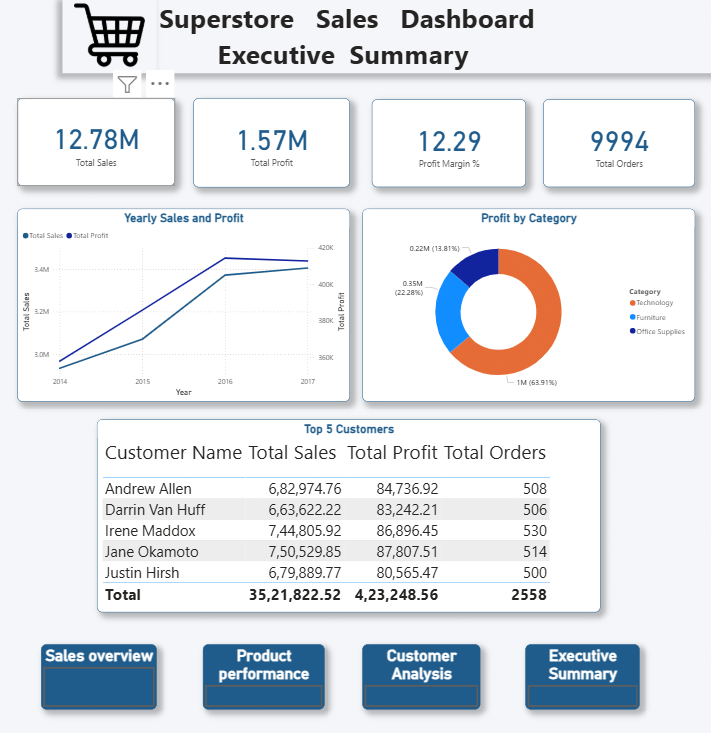

This screenshot's page, from the dashboard's own definition file:
{"tool":"powerbi","page":{"name":"Executive Summary","canvas":[1320,1400],"ordinal":3},"visuals":[{"type":"textbox","box":[290.2,21.7,1011.5,138.6],"z":0},{"type":"image","box":[119.1,21.7,171.1,138.6],"z":1000},{"type":"card","fields":{"Values":["Measures (2).Total Sales"]},"box":[37.2,205.7,286.6,159.7],"z":2000},{"type":"card","fields":{"Values":["Measures (2).Total Profit"]},"box":[356.6,205.7,284.4,161.9],"z":3000},{"type":"card","fields":{"Values":["Measures (2).Profit Margin %"]},"box":[680.4,207.8,280,159.7],"z":4000},{"type":"card","fields":{"Values":["Measures (2).Total Orders"]},"box":[991.1,207.8,275.7,159.7],"z":5000},{"type":"lineChart","title":"Yearly Sales and Profit","fields":{"Category":["Date Table.Year"],"Y":["Measures (2).Total Sales"],"Y2":["Measures (2).Total Profit"]},"box":[37.2,406.9,603.8,350],"z":6000},{"type":"donutChart","title":"Profit by Category","fields":{"Category":["Superstore_Sales.Category"],"Y":["Measures (2).Total Profit"]},"box":[662.9,406.9,603.8,350],"z":7000},{"type":"tableEx","title":"Top 5 Customers","fields":{"Values":["Superstore_Sales.Customer Name","Measures (2).Total Sales","Measures (2).Total Profit","Measures (2).Total Orders"]},"box":[181.6,787.6,914.5,350],"z":8000},{"type":"actionButton","title":"Sales overview","box":[80.9,1196.7,210,118.1],"z":9000},{"type":"actionButton","title":"Product performance","box":[374.1,1196.7,221,118.1],"z":10000},{"type":"actionButton","title":"Customer Analysis","box":[662.9,1196.7,214.4,118.1],"z":11000},{"type":"actionButton","title":"Executive Summary","box":[960.4,1196.7,207.8,118.1],"z":12000}]}

Visuals, with their boxes in screenshot pixels (x1, y1, x2, y2), scaled from the page's 1320x1400 canvas onto the 711x733 screenshot:
textbox: (left=156, top=11, right=701, bottom=84)
image: (left=64, top=11, right=156, bottom=84)
card - Measures (2).Total Sales: (left=20, top=108, right=174, bottom=191)
card - Measures (2).Total Profit: (left=192, top=108, right=345, bottom=192)
card - Measures (2).Profit Margin %: (left=366, top=109, right=517, bottom=192)
card - Measures (2).Total Orders: (left=534, top=109, right=682, bottom=192)
"Yearly Sales and Profit" lineChart: (left=20, top=213, right=345, bottom=396)
"Profit by Category" donutChart: (left=357, top=213, right=682, bottom=396)
"Top 5 Customers" tableEx: (left=98, top=412, right=590, bottom=596)
"Sales overview" actionButton: (left=44, top=627, right=157, bottom=688)
"Product performance" actionButton: (left=202, top=627, right=321, bottom=688)
"Customer Analysis" actionButton: (left=357, top=627, right=473, bottom=688)
"Executive Summary" actionButton: (left=517, top=627, right=629, bottom=688)
